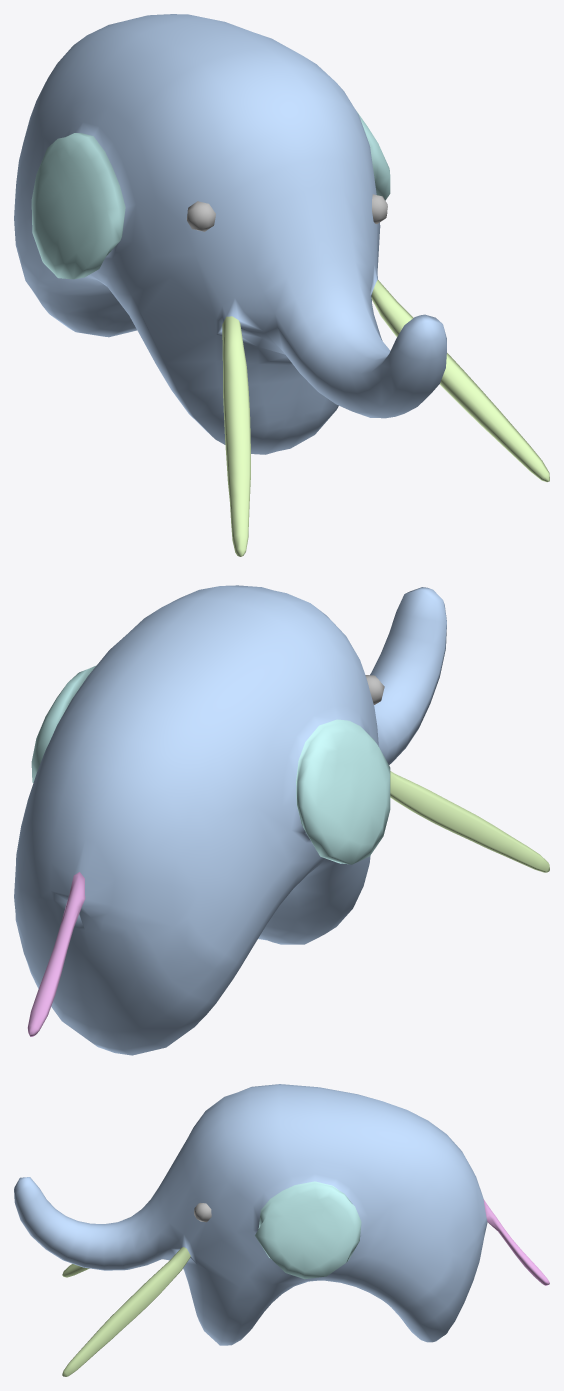
Rendered from WS_VR_FBX_Elephant_low.fbx.
3 renders of one model, top to bottom at view 1: azimuth 30°, elevation 25°; view 2: azimuth 150°, elevation 25°; view 3: azimuth 270°, elevation 25°, orthographic. The views are drawn at different scales.
Parts seen in each view (by area): view 1: PM3D_Sphere3D2_1; view 2: PM3D_Sphere3D2_1; view 3: PM3D_Sphere3D2_1.
Part boxes in pixels (box(x1,y1,x2,y2)): PM3D_Sphere3D2_1: box(14, 14, 549, 556); PM3D_Sphere3D2_1: box(14, 585, 549, 1055); PM3D_Sphere3D2_1: box(14, 1084, 549, 1376).
Size of the model in its own units: 1.87 by 2.05 by 4.09.
